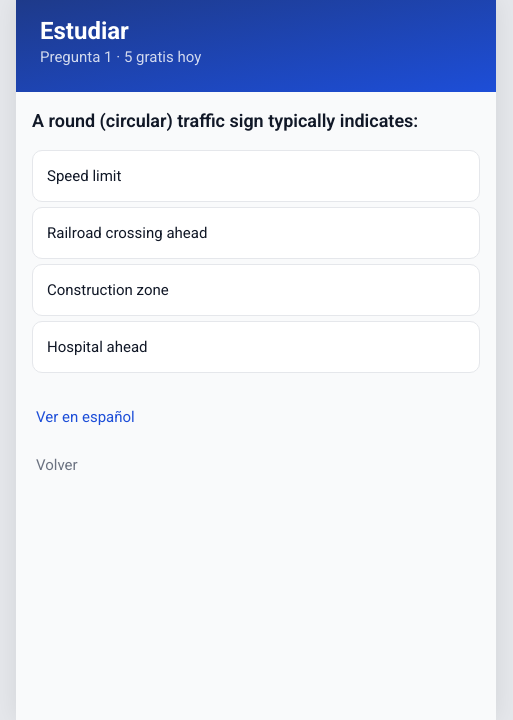
Test case: free tier › shows the remaining free questions and counts answers
expect the text "Pregunta 1 · 5 gratis hoy" is shown: met, box [40,48,201,66]
Click the button "Speed limit". click: (84, 176)
box: [32,150,480,202]
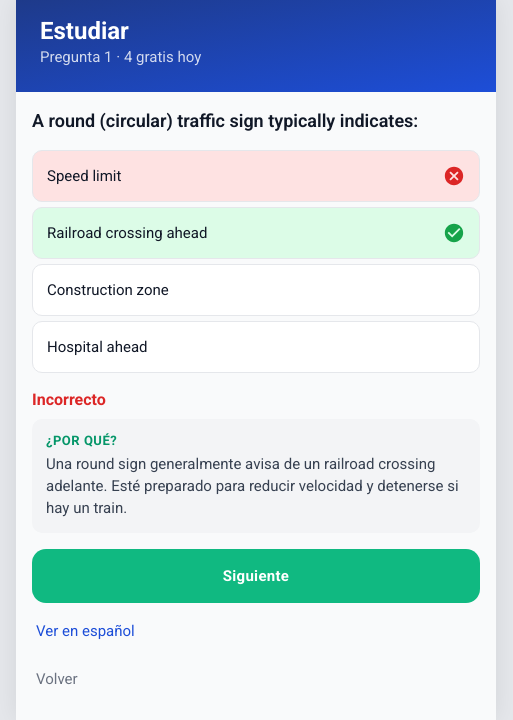
expect the message reads "Incorrecto": met, box [32,390,106,409]
